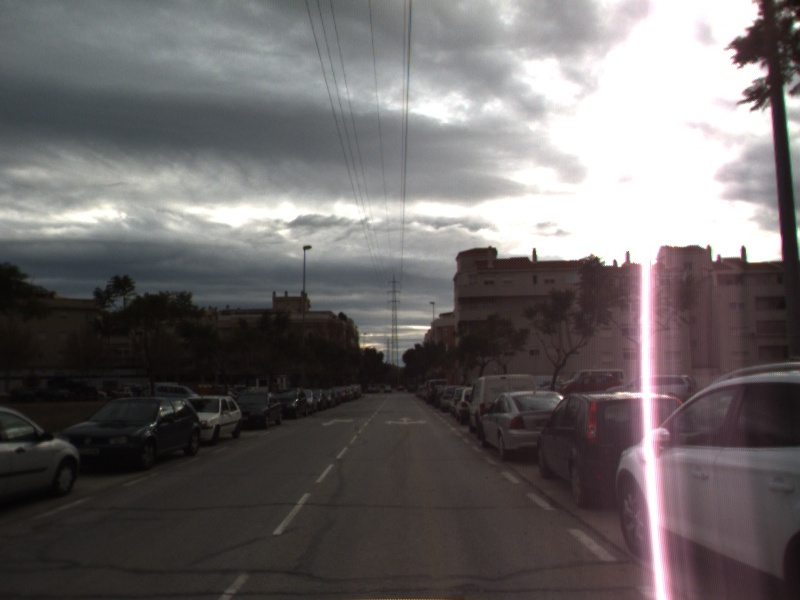STRAIGHT_LEFT_RIGHT: (382, 413, 429, 427)
